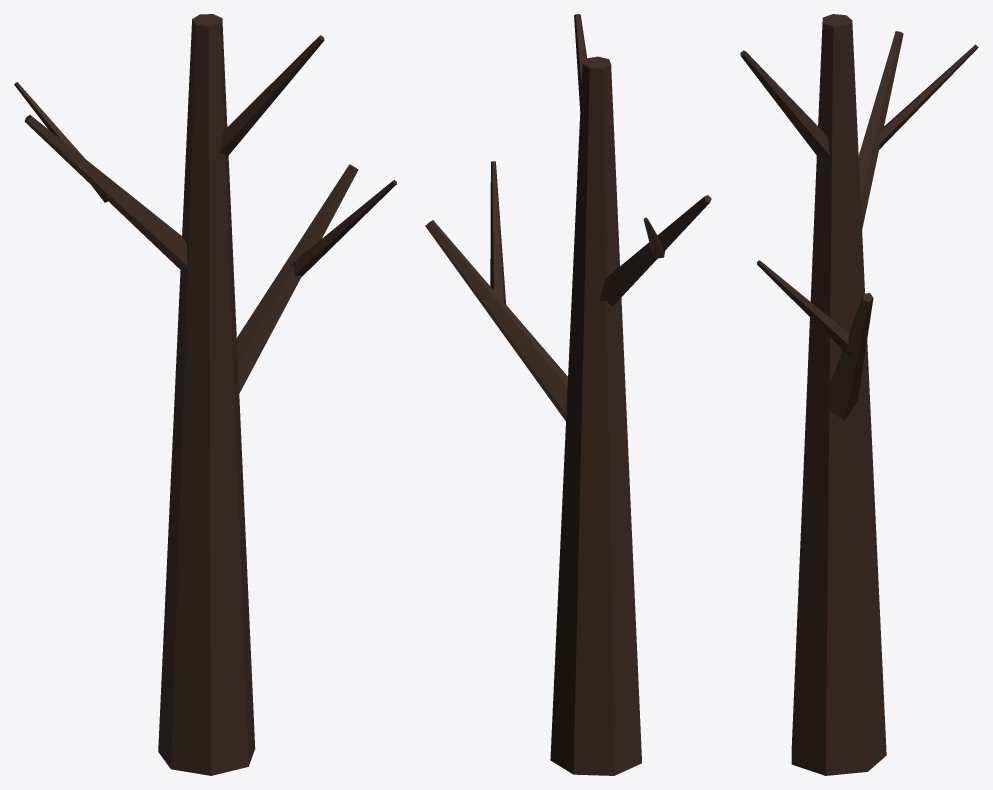
The model's file is SM_Dead_Tree.glb.
3 views of the same model, side by side, from view 1: azimuth 30°, elevation 25°; view 2: azimuth 150°, elevation 25°; view 3: azimuth 270°, elevation 25° (orthographic). The views are drawn at different scales.
Visible parts, largest first — view 1: SM_Dead_Tree; view 2: SM_Dead_Tree; view 3: SM_Dead_Tree.
Boxes of the visible parts, bbox=[...] form: SM_Dead_Tree: bbox=[14, 14, 396, 775]; SM_Dead_Tree: bbox=[425, 14, 711, 775]; SM_Dead_Tree: bbox=[740, 14, 978, 775].
Bounding box in the file's own units: 1.17 × 2.61 × 0.7643.
1 material, 1 textured.
